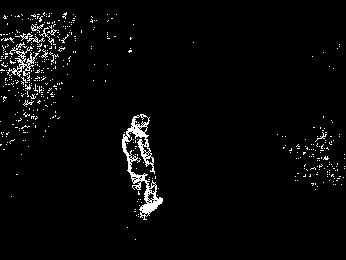person: (120, 110, 164, 222)
